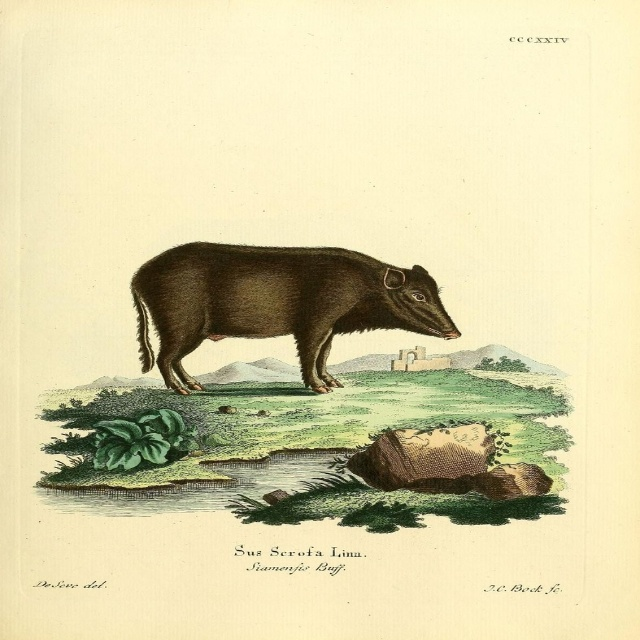Pig: (128, 239, 463, 400)
